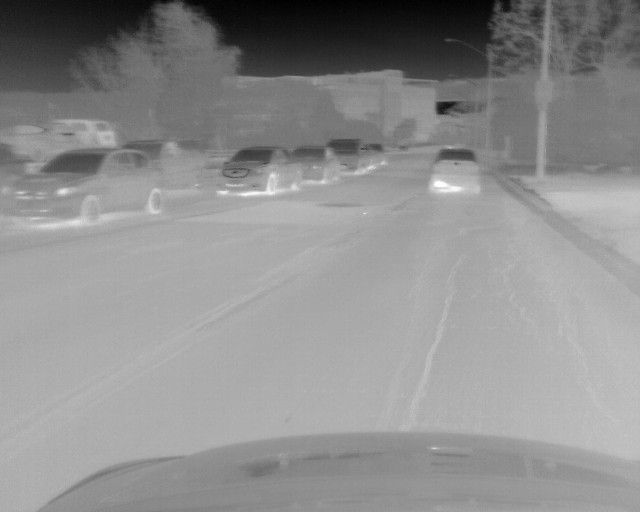car: (3, 149, 164, 227), (220, 146, 303, 197), (123, 138, 198, 184), (428, 147, 482, 191), (298, 144, 338, 185), (332, 138, 367, 174), (368, 141, 386, 169)
